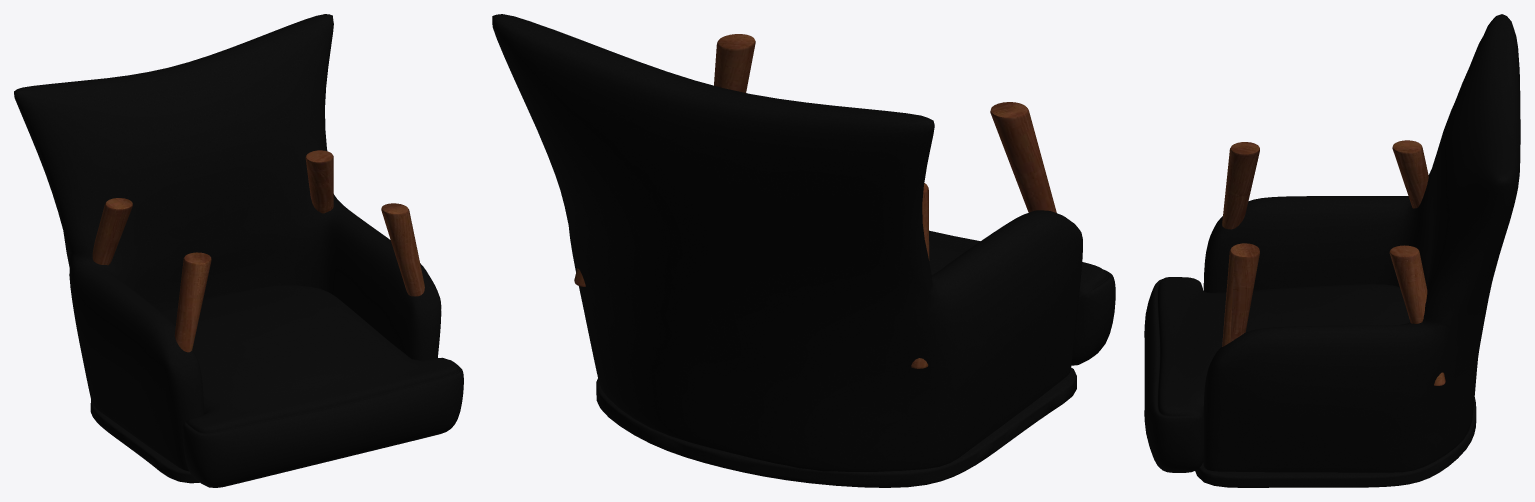
File: armchair_2_processed.glb
3 views of the same model, side by side, from view 1: azimuth 30°, elevation 25°; view 2: azimuth 150°, elevation 25°; view 3: azimuth 270°, elevation 25° (orthographic). The views are drawn at different scales.
Visible parts, largest first — view 1: Object_3, Object_2; view 2: Object_3, Object_2; view 3: Object_3, Object_2.
Boxes of the visible parts, x1,y1,x2,y2 form: Object_3: (14, 14, 463, 487); Object_2: (92, 150, 424, 352); Object_3: (492, 14, 1115, 487); Object_2: (574, 34, 1056, 368); Object_3: (1144, 14, 1520, 487); Object_2: (1222, 140, 1445, 385).
Bounding box in the file's own units: 2261145 × 2043359 × 2149354.
2 materials, 2 textured.
